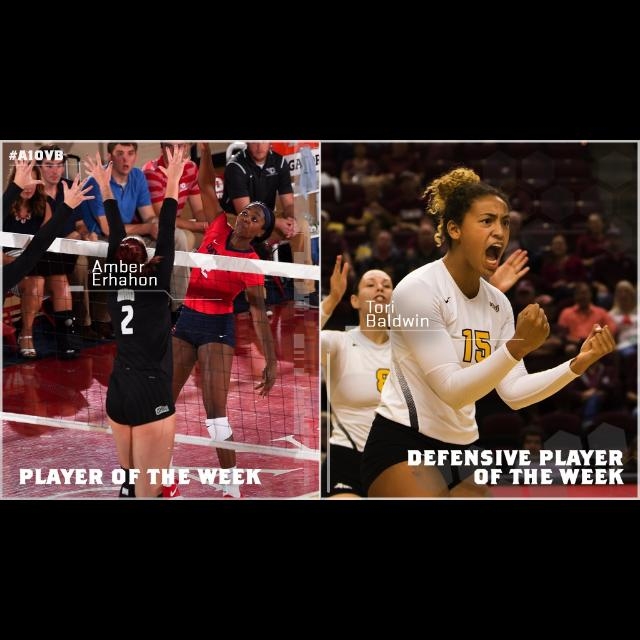head: (441, 182, 512, 280), (350, 269, 396, 317), (234, 200, 276, 242), (114, 235, 150, 273), (106, 140, 140, 177), (36, 146, 66, 184), (13, 164, 39, 200), (159, 140, 189, 168), (245, 140, 272, 162), (616, 282, 636, 308), (573, 282, 593, 306), (552, 235, 568, 255)
person: (135, 140, 281, 496), (75, 140, 189, 334), (136, 140, 238, 326), (217, 140, 323, 316), (29, 144, 122, 342), (0, 158, 80, 360), (552, 274, 618, 376), (534, 234, 584, 316)
